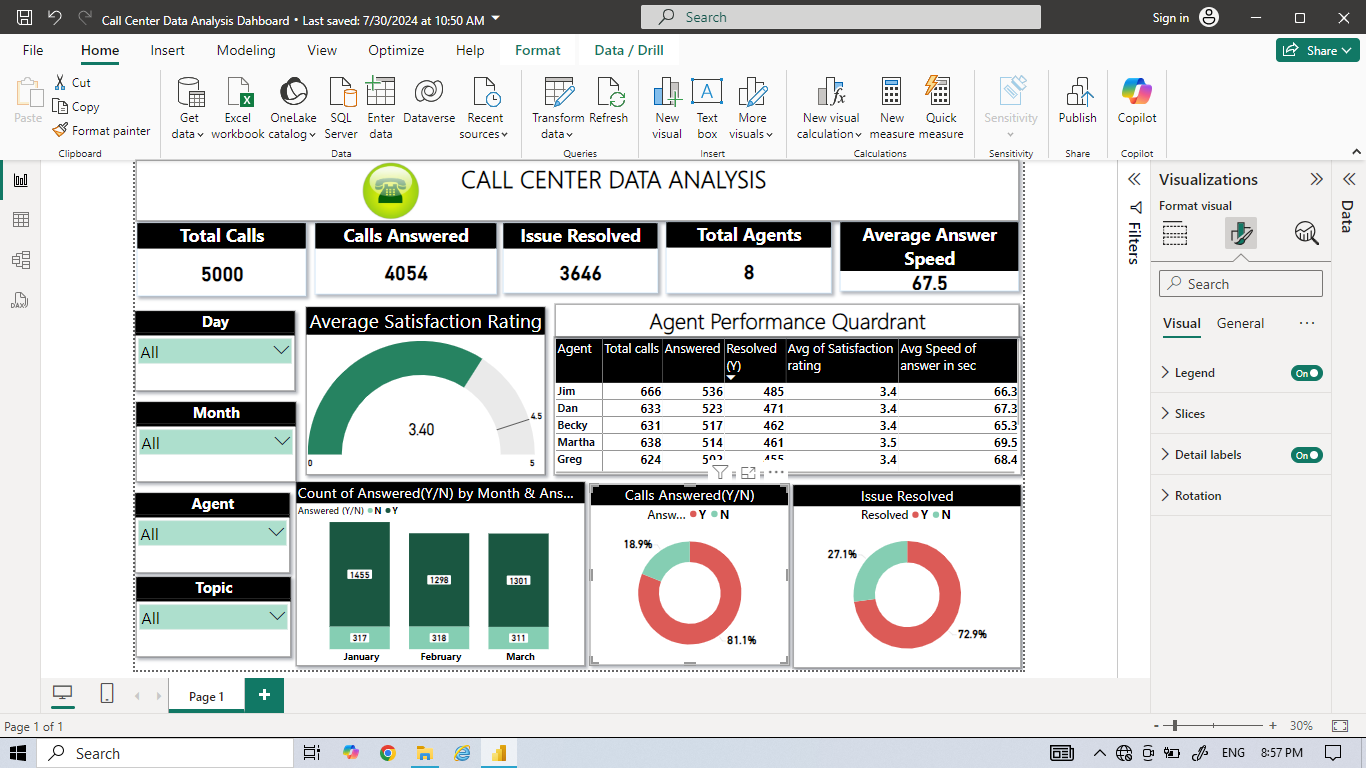

Layout of this report page (visuals, bound fields, positions):
{"tool":"powerbi","page":{"name":"Page 1","canvas":[2939,1689],"ordinal":0},"visuals":[{"type":"textbox","box":[3.3,0,2924.3,202],"z":0},{"type":"card","title":"Total Calls","fields":{"Values":["Sheet1.Call Id"]},"box":[6.4,210.2,560.4,242],"z":1000},{"type":"card","title":"Calls Answered","fields":{"Values":["Sheet1.Answered"]},"box":[595.5,210.2,601.8,235.6],"z":2000},{"type":"card","title":"Issue Resolved","fields":{"Values":["Sheet1.Resolved (Y)"]},"box":[1219.6,210.2,512.7,232.5],"z":3000},{"type":"card","title":"Average Answer Speed","fields":{"Values":["Sheet1.Speed of answer in seconds"]},"box":[2334.1,203.8,592.3,229.3],"z":4000},{"type":"card","title":"Total Agents","fields":{"Values":["Sheet1.Agent"]},"box":[1757.7,207,547.7,235.6],"z":5000},{"type":"pivotTable","fields":{"Rows":["Sheet1.Agent"],"Values":["Sheet1.Call Id","Sheet1.Answered","Sheet1.Resolved (Y)","Sheet1.Satisfaction rating","Sheet1.Speed of answer in seconds"]},"box":[1387.6,586.2,1546.6,457],"z":6000},{"type":"gauge","title":"Average Satisfaction Rating","fields":{"Y":["Sheet1.Satisfaction rating"],"MaxValue":["Sheet1.Satisfaction rating"]},"box":[566.3,486.8,791.5,556.4],"z":7000},{"type":"donutChart","title":"Calls Answered(Y/N)","fields":{"Category":["Sheet1.Answered (Y/N)"],"Y":["Sheet1.Answered (Y/N)"]},"box":[1506.9,1073,659,599.4],"z":8000},{"type":"donutChart","title":"Issue Resolved ","fields":{"Series":["Sheet1.Resolved"],"Category":["Sheet1.Resolved"],"Y":["Sheet1.Resolved"]},"box":[2179.1,1076.3,755.1,606.1],"z":9000},{"type":"columnChart","title":"Count of Answered(Y/N) by Month & Answered (Y/N)","fields":{"Y":["Sheet1.Answered (Y/N)"],"Category":["Sheet1.Date.Variation.Date Hierarchy.Month"],"Series":["Sheet1.Answered (Y/N)"]},"box":[533.2,1066.4,957.1,609.4],"z":10000},{"type":"image","box":[601.8,0,487.2,200.6],"z":11000},{"type":"slicer","title":"Agent","fields":{"Values":["Sheet1.Agent"]},"box":[0,1102.8,513.3,264.9],"z":12000},{"type":"slicer","title":"Topic","fields":{"Values":["Sheet1.Topic"]},"box":[3.3,1381,513.3,264.9],"z":13000},{"type":"textbox","box":[1390.9,476.9,1536.7,109.3],"z":14000},{"type":"slicer","title":"Month","fields":{"Values":["Sheet1.Date.Variation.Date Hierarchy.Month"]},"box":[3.3,801.4,529.9,264.9],"z":15000},{"type":"slicer","title":"Day","fields":{"Values":["Sheet1.Date.Variation.Date Hierarchy.Day"]},"box":[0,500.1,529.9,264.9],"z":16000}]}

Visuals, with their boxes on the page's 2939x1689 design canvas (x1, y1, x2, y2). These are canvas units, not pixel positions in the 1366x768 screenshot, which may show the page scaled, cropped or inside an application window:
textbox: detection(3, 0, 2928, 202)
"Total Calls" card: detection(6, 210, 567, 452)
"Calls Answered" card: detection(596, 210, 1197, 446)
"Issue Resolved" card: detection(1220, 210, 1732, 443)
"Average Answer Speed" card: detection(2334, 204, 2926, 433)
"Total Agents" card: detection(1758, 207, 2305, 443)
pivotTable - Sheet1.Agent x Sheet1.Call Id: detection(1388, 586, 2934, 1043)
"Average Satisfaction Rating" gauge: detection(566, 487, 1358, 1043)
"Calls Answered(Y/N)" donutChart: detection(1507, 1073, 2166, 1672)
"Issue Resolved " donutChart: detection(2179, 1076, 2934, 1682)
"Count of Answered(Y/N) by Month & Answered (Y/N)" columnChart: detection(533, 1066, 1490, 1676)
image: detection(602, 0, 1089, 201)
"Agent" slicer: detection(0, 1103, 513, 1368)
"Topic" slicer: detection(3, 1381, 517, 1646)
textbox: detection(1391, 477, 2928, 586)
"Month" slicer: detection(3, 801, 533, 1066)
"Day" slicer: detection(0, 500, 530, 765)
